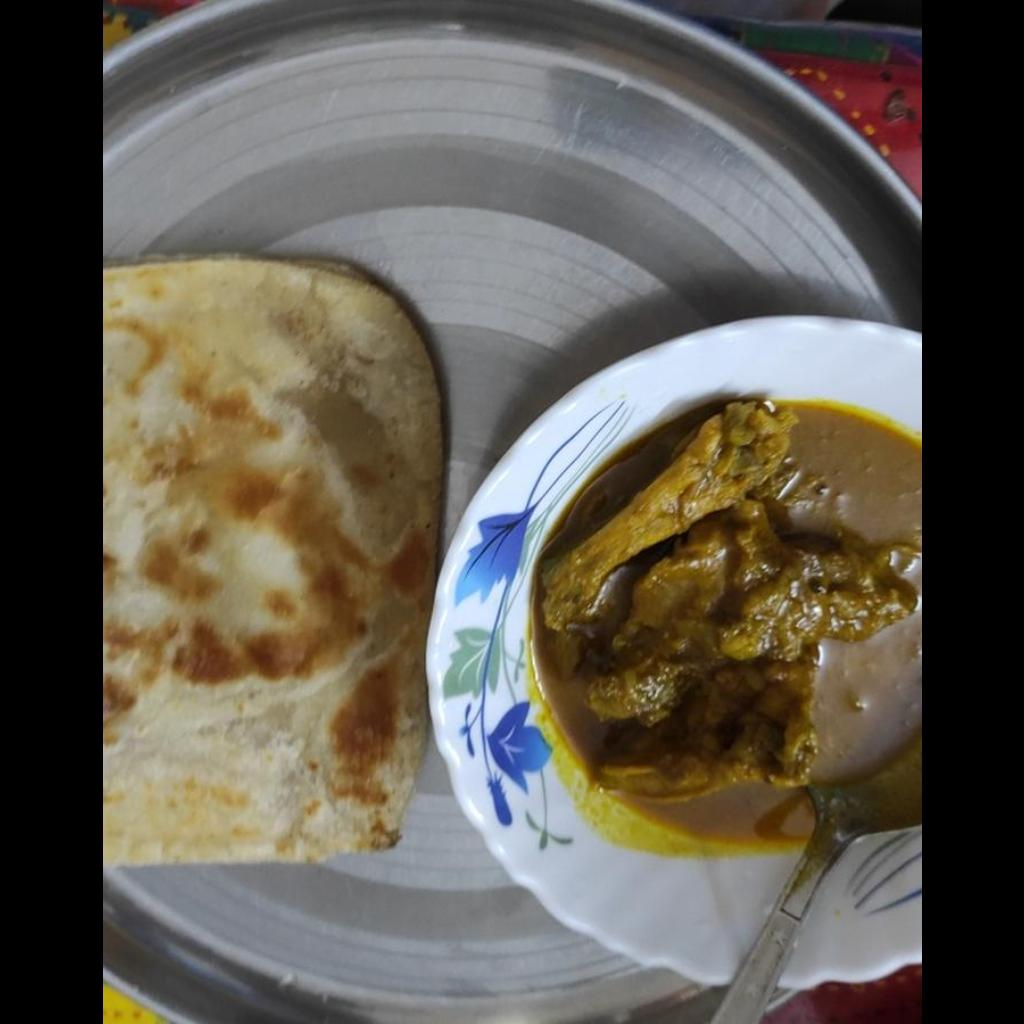chicken: (544, 395, 920, 795)
ruti: (108, 255, 448, 864)
